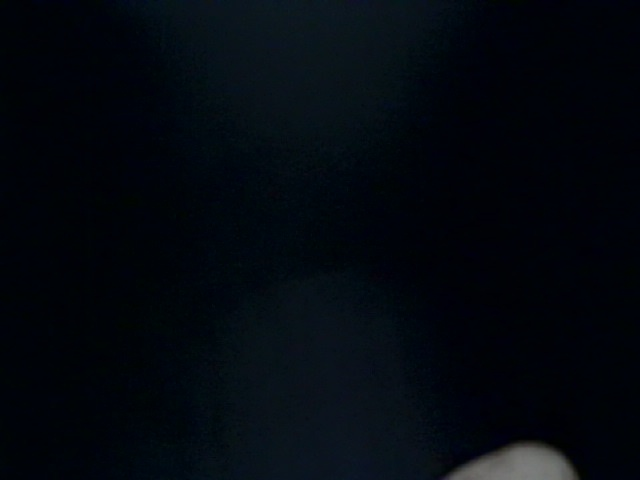QTLJ: (84, 1, 356, 221)
